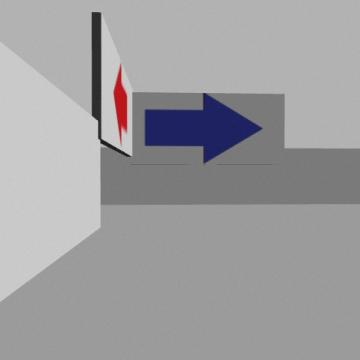blue_right: (145, 94, 262, 163)
red_left: (114, 64, 128, 143)
